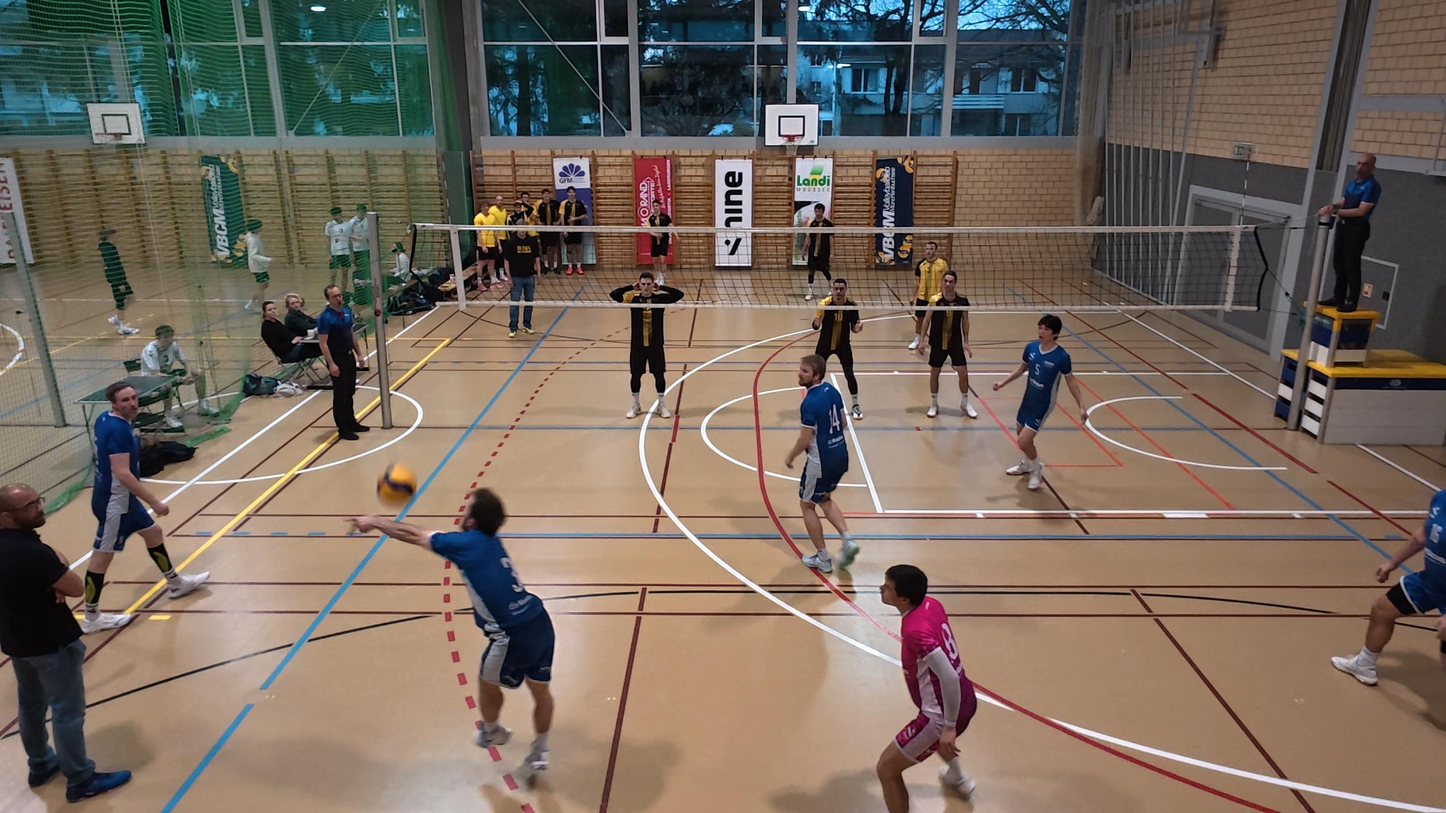Player: (76, 381, 209, 633), (877, 565, 976, 812), (1331, 488, 1446, 686), (989, 314, 1088, 490), (786, 354, 859, 573), (612, 267, 684, 418), (810, 277, 868, 419), (923, 271, 976, 418), (801, 203, 836, 330), (909, 240, 947, 353)
Receive: (342, 485, 564, 782)
ball: (376, 461, 419, 502)
